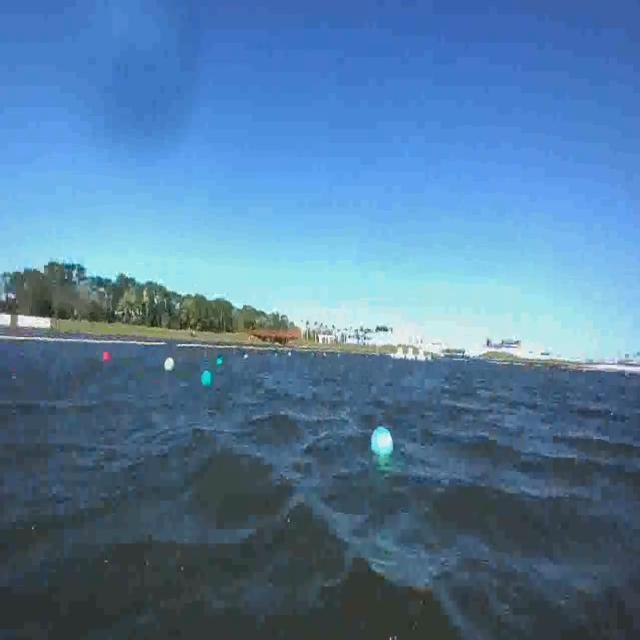green-buoy: (370, 427, 395, 459), (202, 371, 214, 387), (215, 352, 222, 364)
red-buoy: (104, 352, 111, 362)
yellow-buoy: (164, 353, 177, 375)
